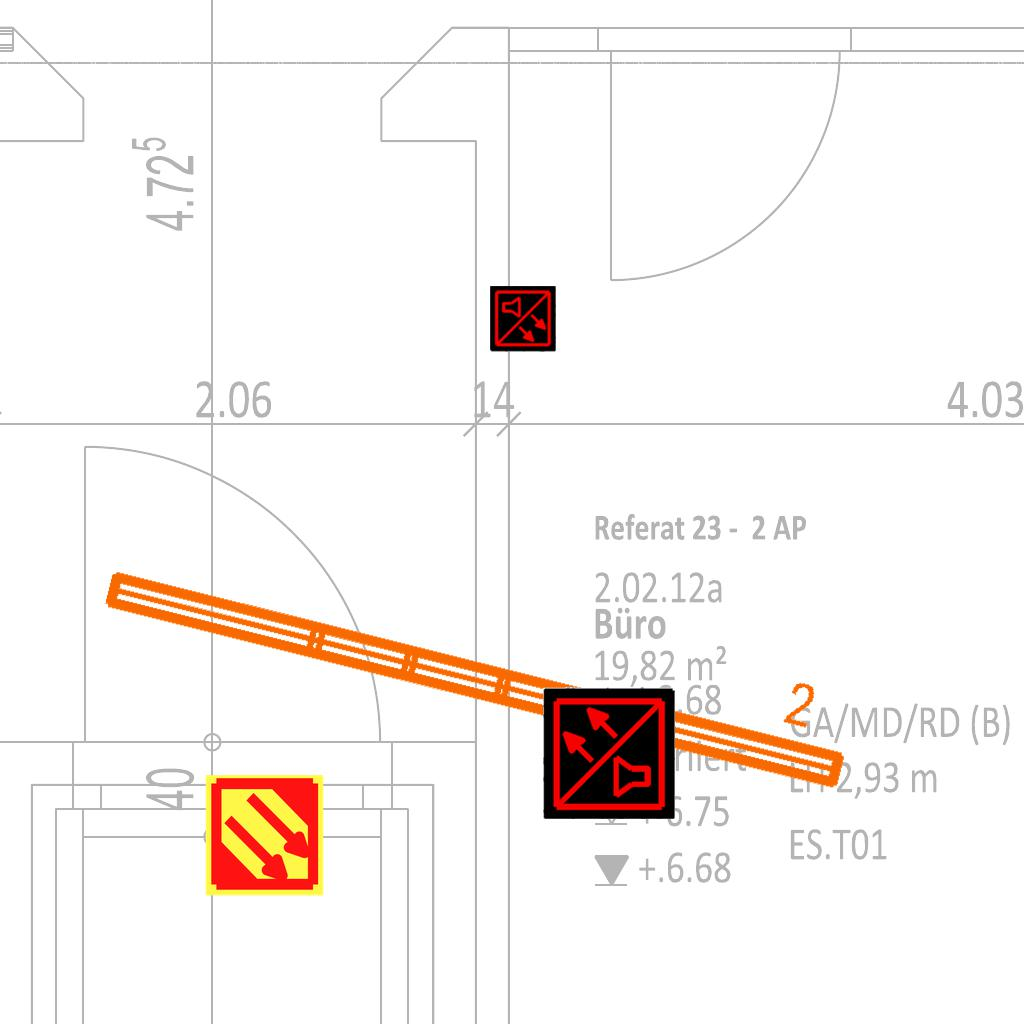ASR_Ansaugrauchmelder: (202, 773, 327, 898)
Ambulanz_Pendelleuchte_LED: (90, 507, 870, 803)
OKW_Multisensormelder_(Kombination_optischer_Rauch-Kahlenmonoxid_Waerme-Melder): (543, 687, 675, 819), (490, 286, 556, 352)
